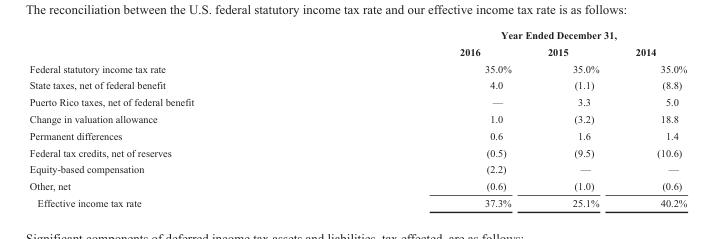table: (28, 28, 686, 208)
table column: (28, 28, 326, 208), (326, 28, 528, 208), (528, 28, 616, 208), (616, 28, 686, 208)
table column header: (28, 28, 686, 59)
table row: (28, 42, 686, 59), (28, 59, 686, 76), (28, 76, 686, 93), (28, 93, 686, 110), (28, 126, 686, 143), (28, 143, 686, 160), (28, 160, 686, 177), (28, 177, 686, 194), (28, 110, 686, 126), (28, 28, 686, 42), (28, 194, 686, 208)
table spanning cell: (326, 28, 686, 42)
